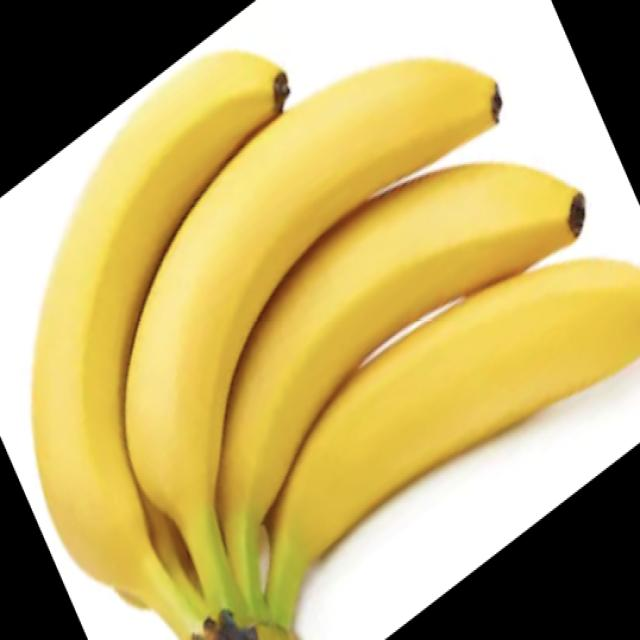banana: (57, 38, 524, 532)
